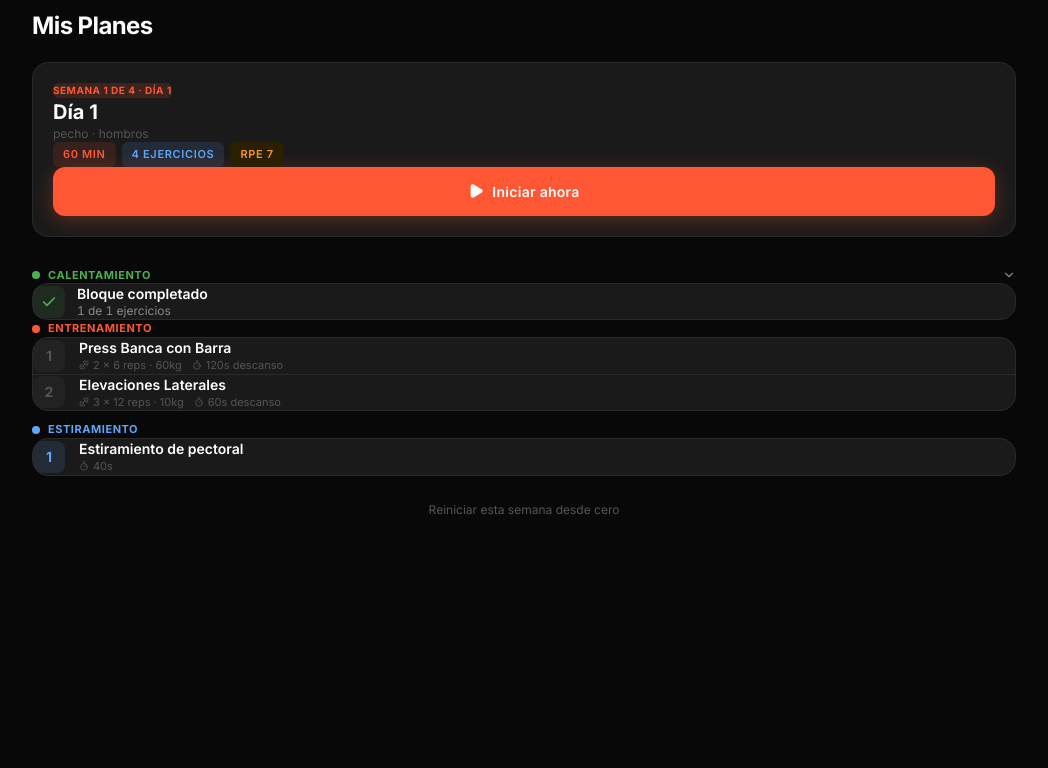
Test: Plans — sesión activa › reiniciar la semana › muestra el error si el backend falla
The image size is (1048, 768).
Click the button "Reiniciar esta semana desde cero". click: (524, 510)
box: [12,502,1036,518]
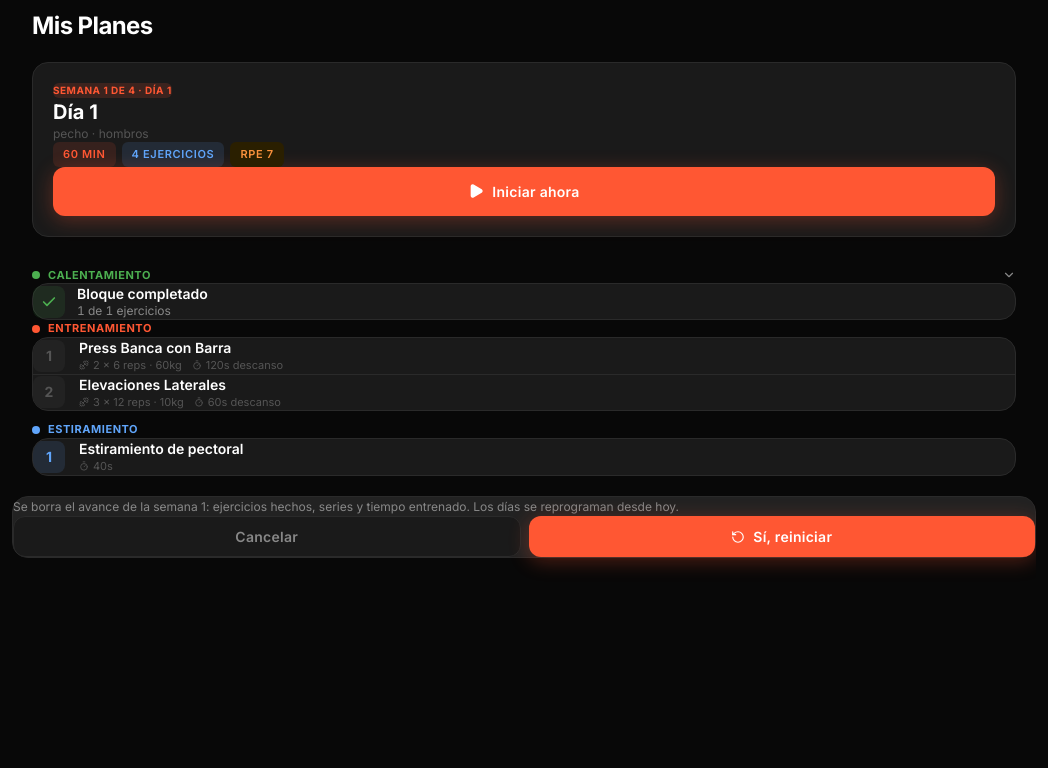
Click the button "Sí, reiniciar". click: (782, 536)
box: [528,516,1035,557]
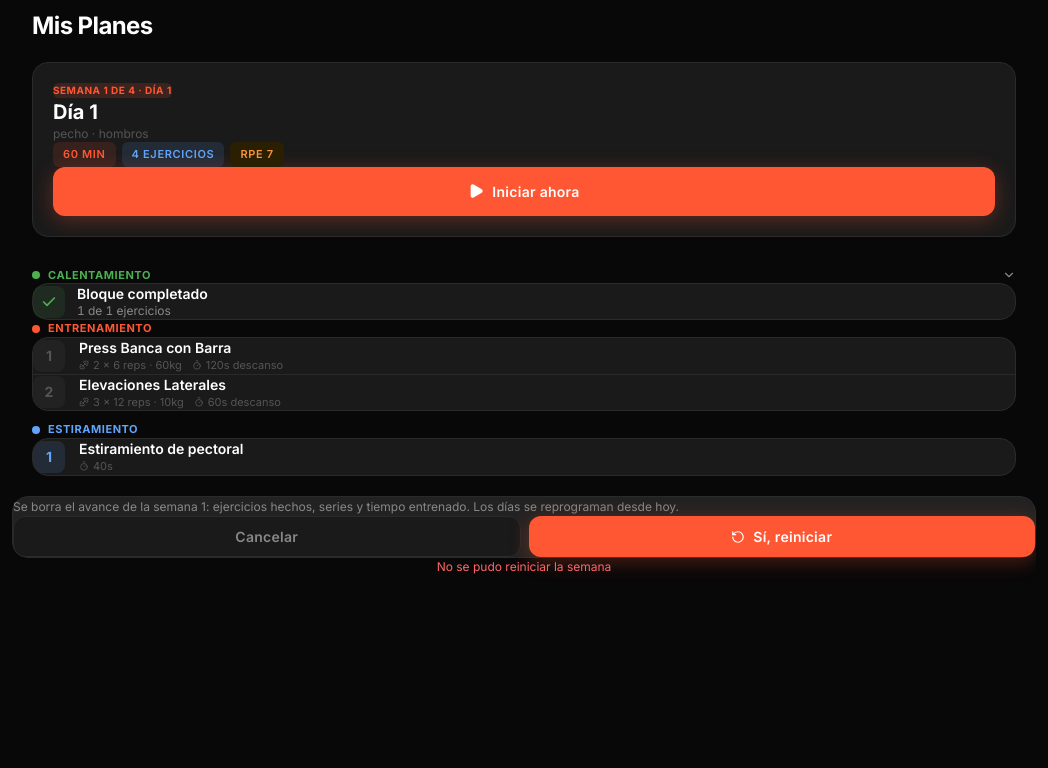
expect the message reads "No se pudo reiniciar la semana": met, box [437,559,611,574]
